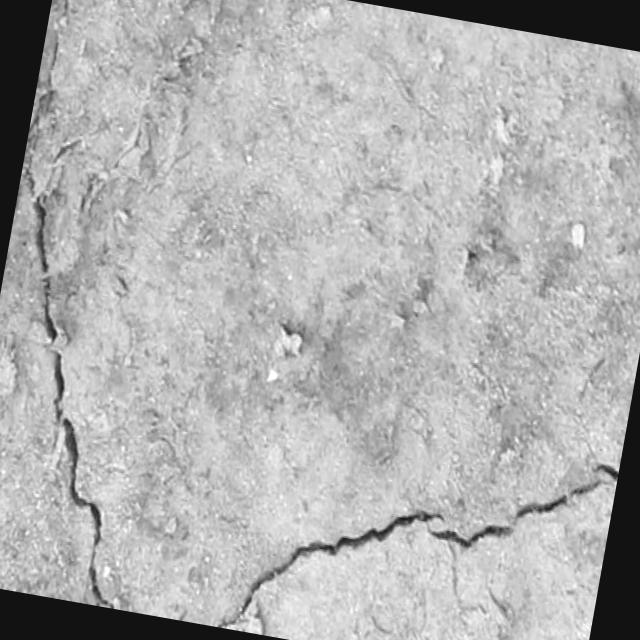crack: (0, 0, 236, 607), (218, 397, 617, 640)
